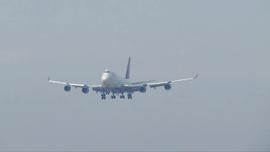aircraft: (48, 55, 198, 99)
